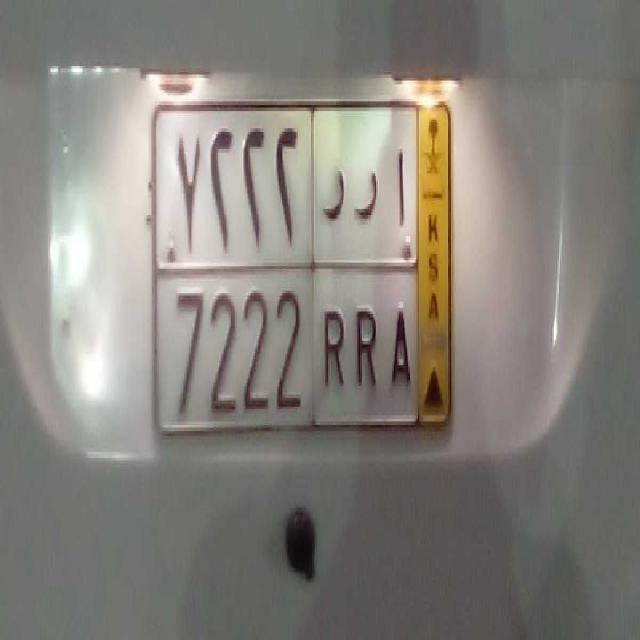license_plate: (154, 268, 418, 430)
